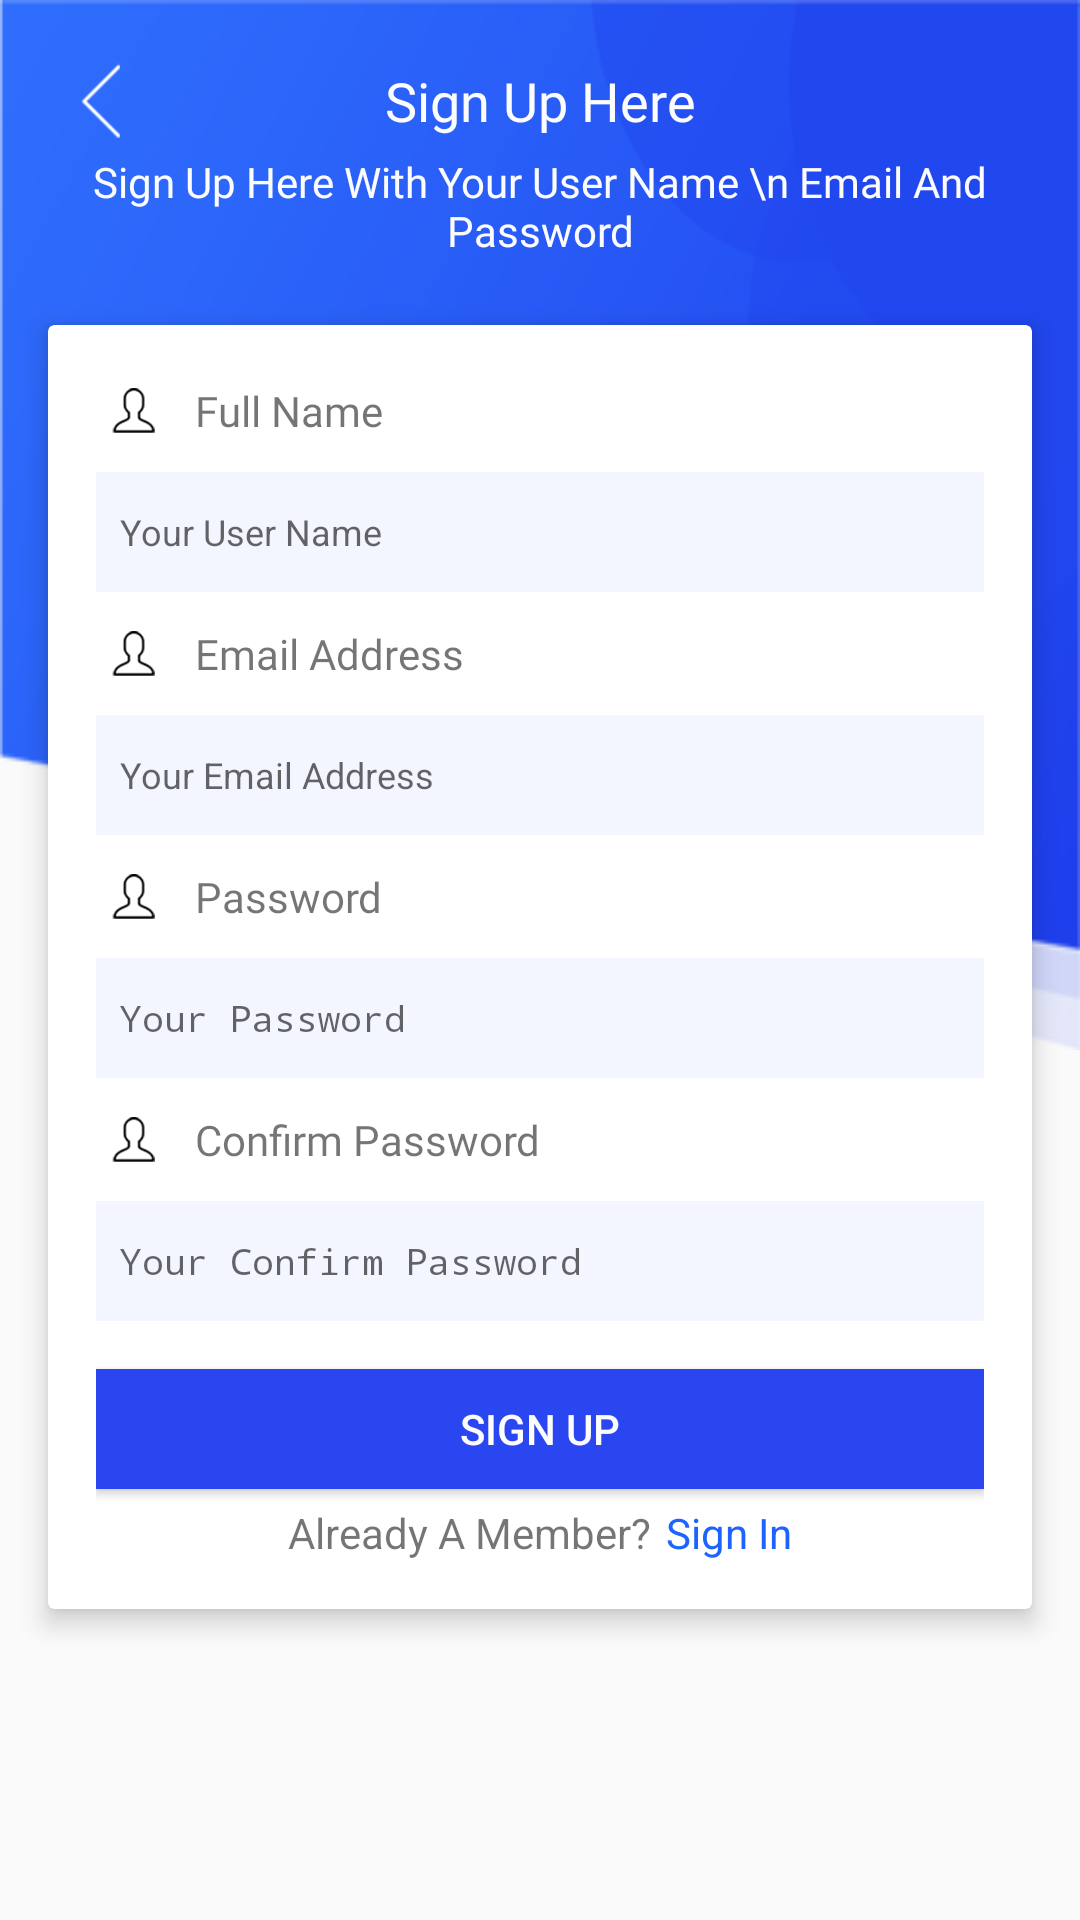

Icons on this 1080 × 1920 Android screen, each with its box as (x1, y1, x2, y2):
back: (81, 64, 120, 138)
